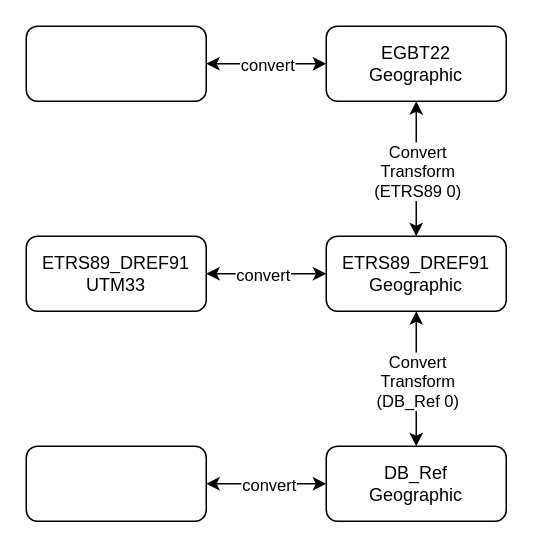
The diagram is 533 pixels wide and 548 high, and some of its shapes have lost their labels. Each missing label, with the box of its shape:
DB_Ref GK5: (25, 445, 206, 521)
EGBT22 EGBT22_LDP: (25, 25, 206, 101)
